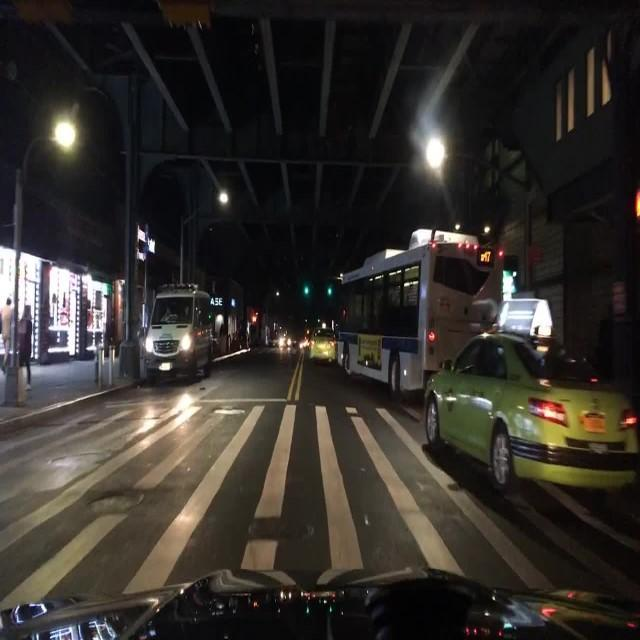normal: (423, 333, 639, 498), (336, 228, 518, 400), (144, 283, 220, 380), (500, 295, 556, 338)
